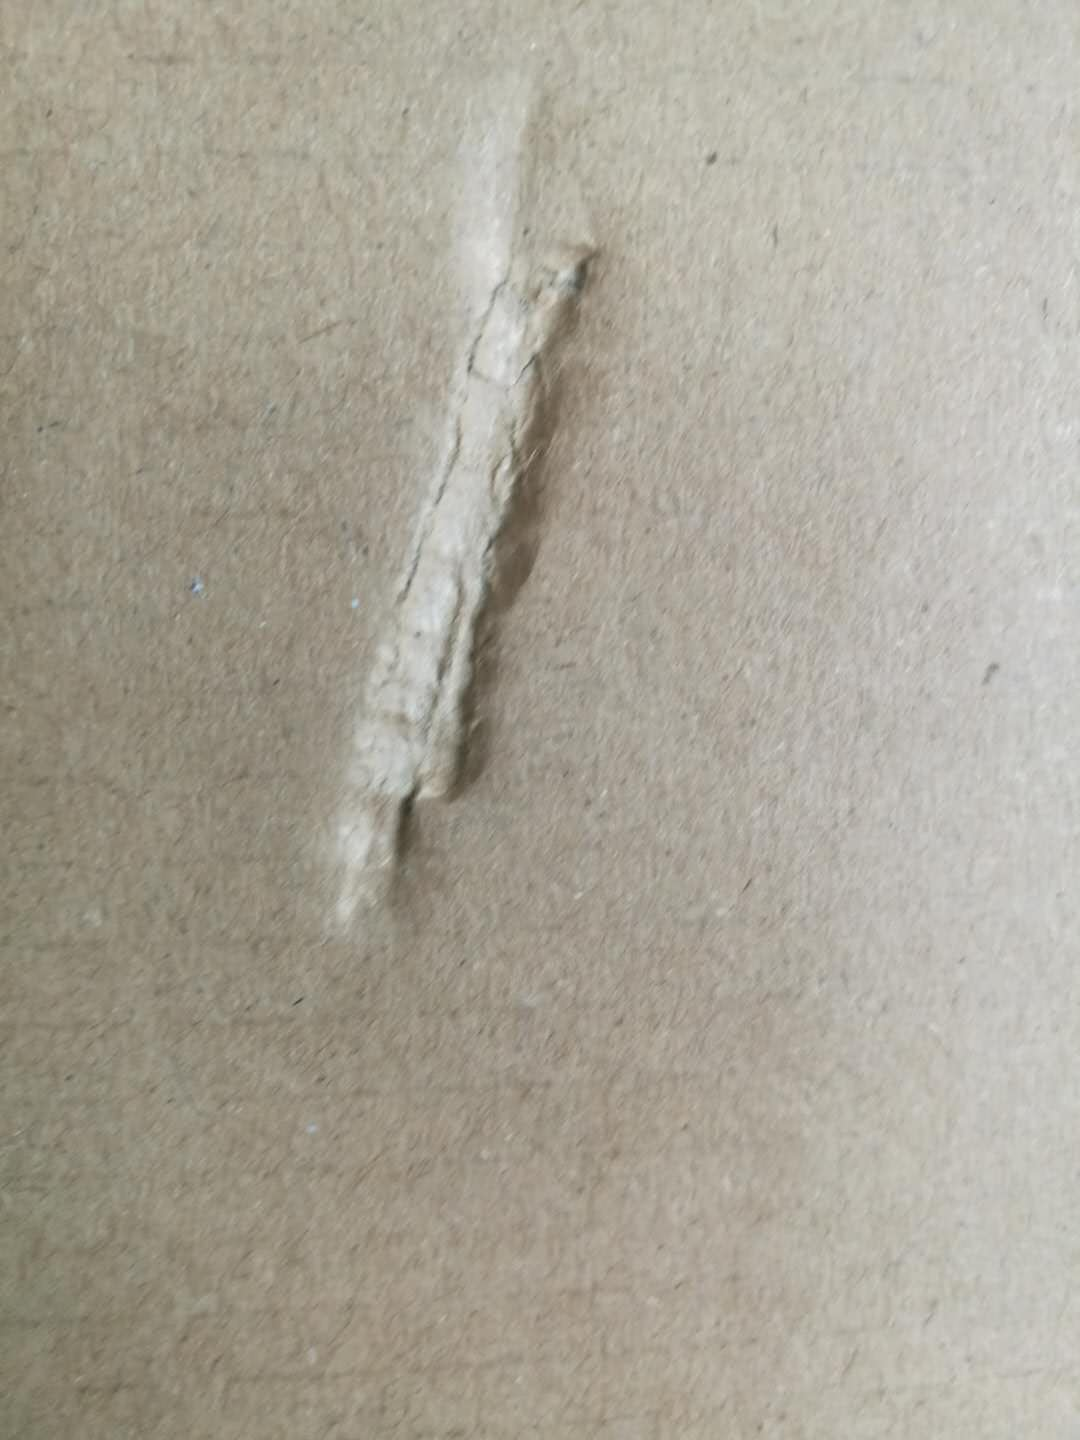defect: (268, 53, 649, 973)
